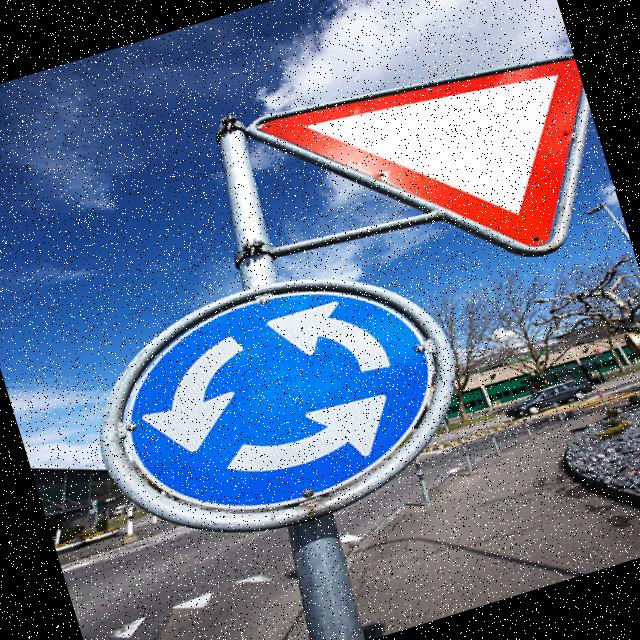give_way: (243, 7, 624, 318)
